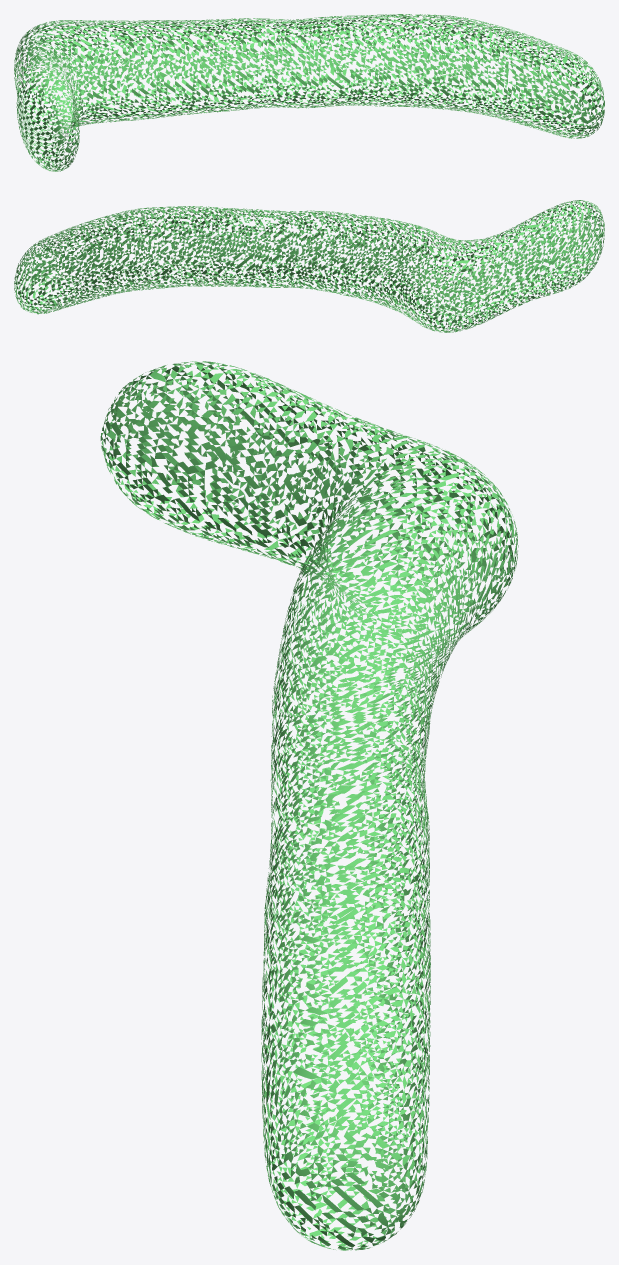
Rendered from morph_018.glb.
The picture shows the model from 3 angles, top to bottom: view 1: azimuth 30°, elevation 25°; view 2: azimuth 150°, elevation 25°; view 3: azimuth 270°, elevation 25°; orthographic projection. The views are drawn at different scales.
Bounding box in the file's own units: 115 × 42.05 × 39.49.
